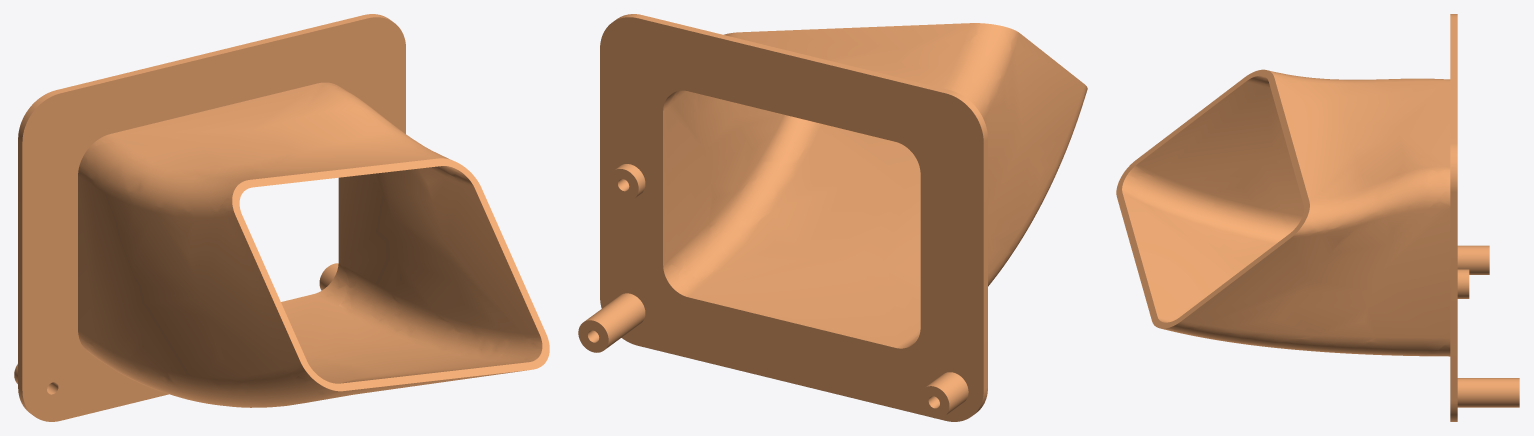
The picture shows the model from 3 angles, left to right: view 1: azimuth 30°, elevation 25°; view 2: azimuth 150°, elevation 25°; view 3: azimuth 270°, elevation 25°; orthographic projection. The views are drawn at different scales.
Visible parts, largest first — view 1: Option_A_concept; view 2: Option_A_concept; view 3: Option_A_concept.
Part boxes in pixels (x1,y1,x2,y2): Option_A_concept: (14,14,549,421); Option_A_concept: (578,14,1087,421); Option_A_concept: (1116,14,1519,421).
Bounding box in the file's own units: 0.152 × 0.124 × 0.1648.
